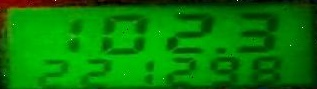-: (213, 46, 226, 53)
0: (99, 11, 148, 54)
1: (62, 17, 82, 53), (141, 60, 155, 84)
2: (163, 13, 212, 53), (35, 58, 68, 87), (77, 58, 109, 87), (163, 56, 195, 85)
3: (234, 12, 276, 52)
8: (250, 56, 280, 85)
9: (208, 56, 238, 85)
